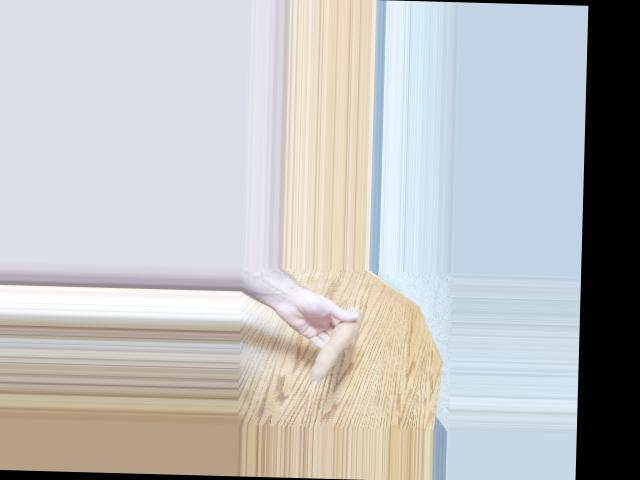sweet_potato: (309, 304, 362, 382)
